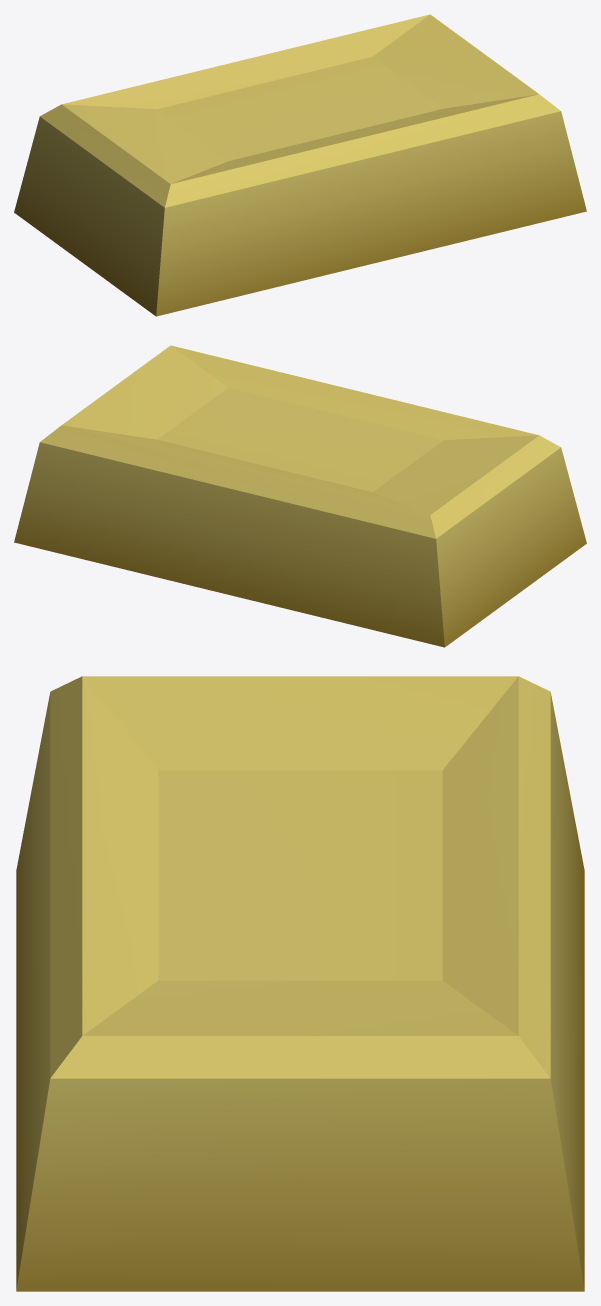
Rendered from Gold_Ingot.glb.
3 renders of one model, top to bottom at view 1: azimuth 30°, elevation 25°; view 2: azimuth 150°, elevation 25°; view 3: azimuth 270°, elevation 25°, orthographic. The views are drawn at different scales.
Visible parts, largest first — view 1: GoldIngot; view 2: GoldIngot; view 3: GoldIngot.
Boxes of the visible parts, bbox=[...] form: GoldIngot: bbox=[14, 14, 586, 316]; GoldIngot: bbox=[14, 345, 586, 647]; GoldIngot: bbox=[16, 676, 584, 1291].
Size of the model in its own units: 0.56 by 0.14 by 0.32.
